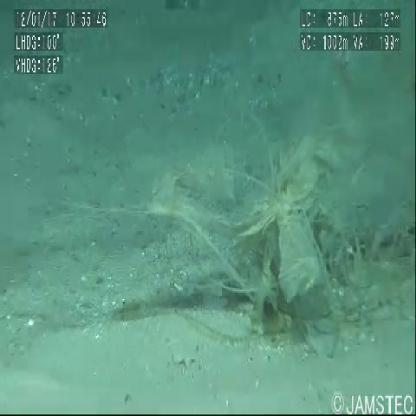Rác: (88, 117, 414, 359)
